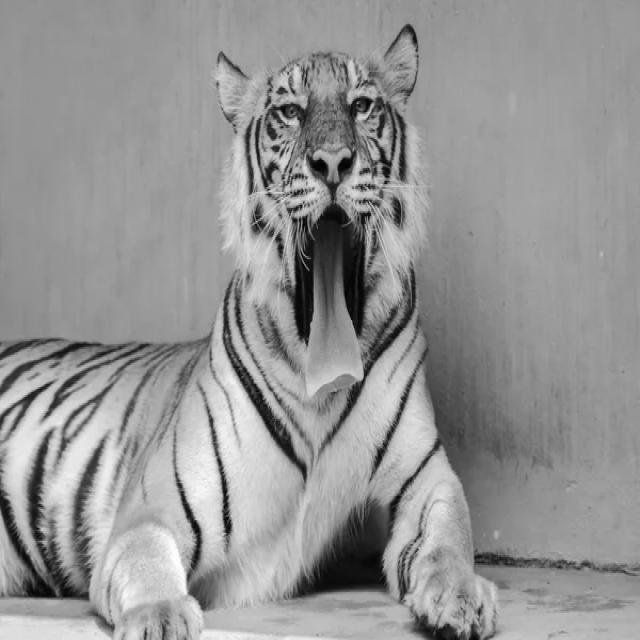Animal: (10, 37, 499, 640)
